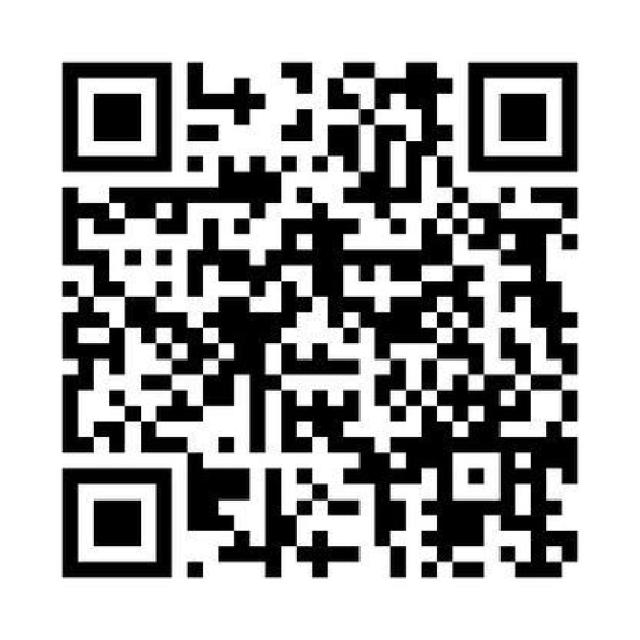QRCode: (49, 45, 600, 588)
